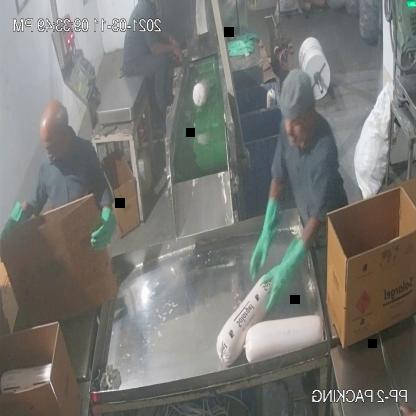glove: (251, 234, 308, 320), (240, 193, 284, 285), (81, 201, 125, 253)
no_glove: (153, 36, 190, 68)
